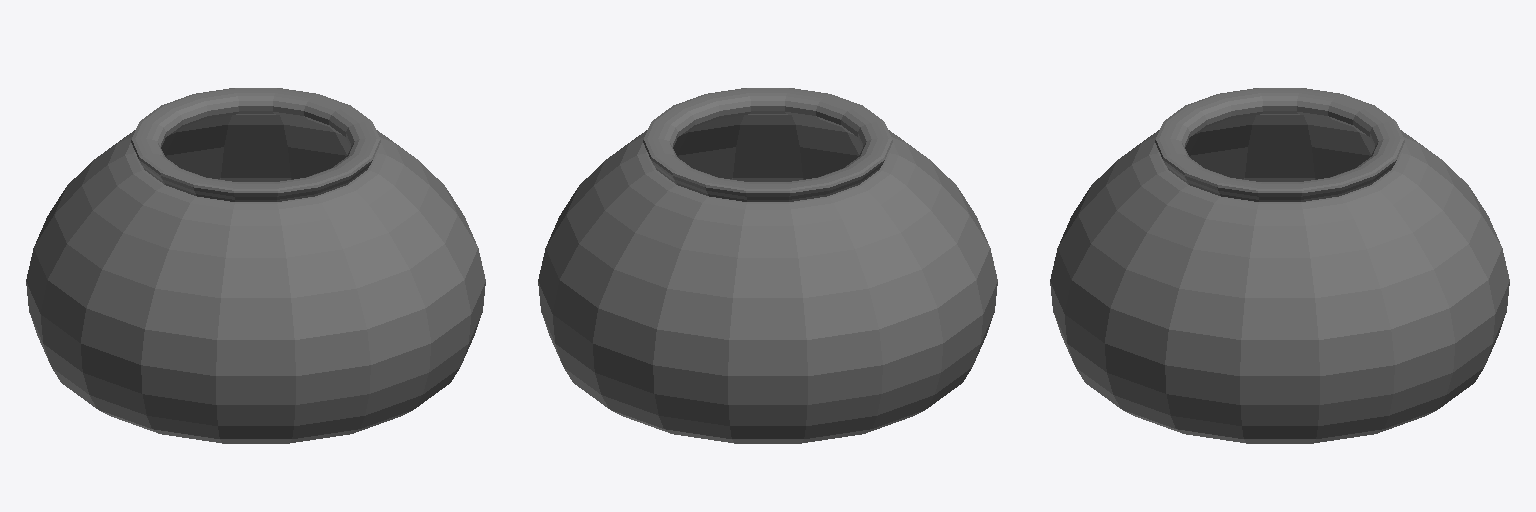
Rendered from FishinBowlOBJ.obj.
The picture shows the model from 3 angles: view 1: azimuth 30°, elevation 25°; view 2: azimuth 150°, elevation 25°; view 3: azimuth 270°, elevation 25°; orthographic projection.
Parts seen in each view (by area): view 1: Bowl1; view 2: Bowl1; view 3: Bowl1.
Boxes of the visible parts, <box> form: Bowl1: <box>26,88,485,443</box>; Bowl1: <box>538,88,997,443</box>; Bowl1: <box>1050,88,1509,443</box>.
Bounding box in the file's own units: 16.37 × 9.4 × 16.68.